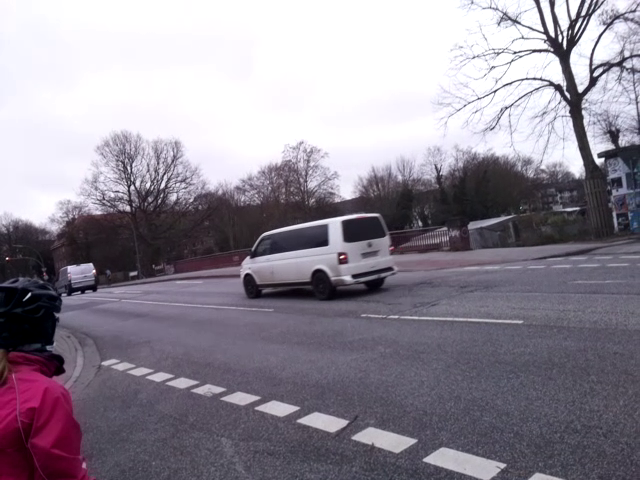car: (239, 206, 399, 306), (54, 259, 102, 297)
